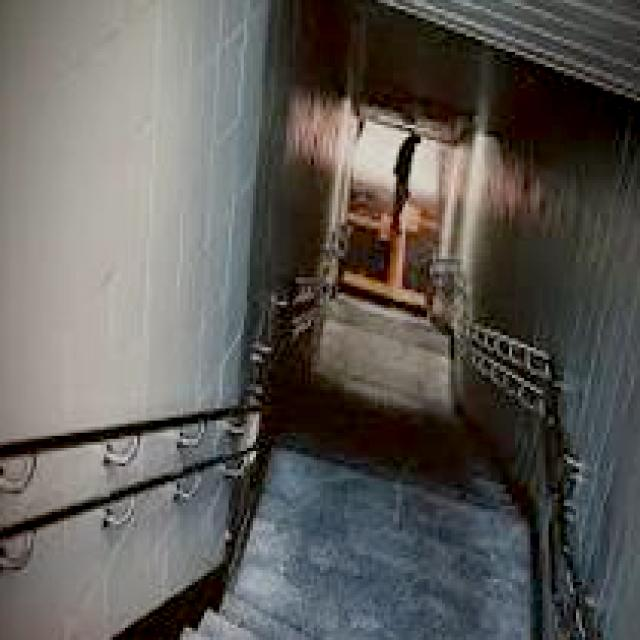downstair: (281, 370, 507, 543)
